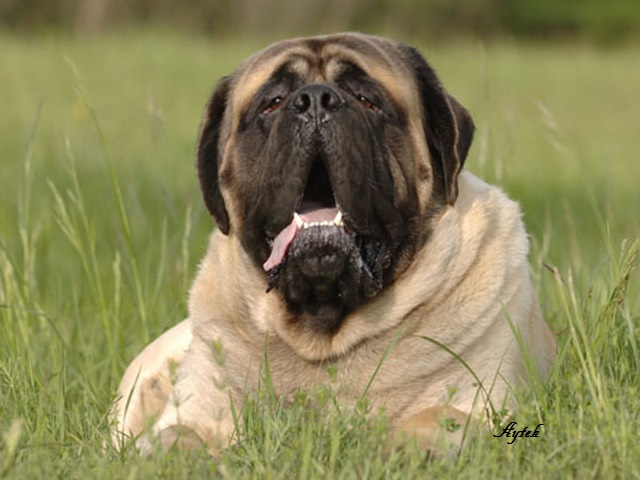mastiff: (107, 34, 559, 457)
